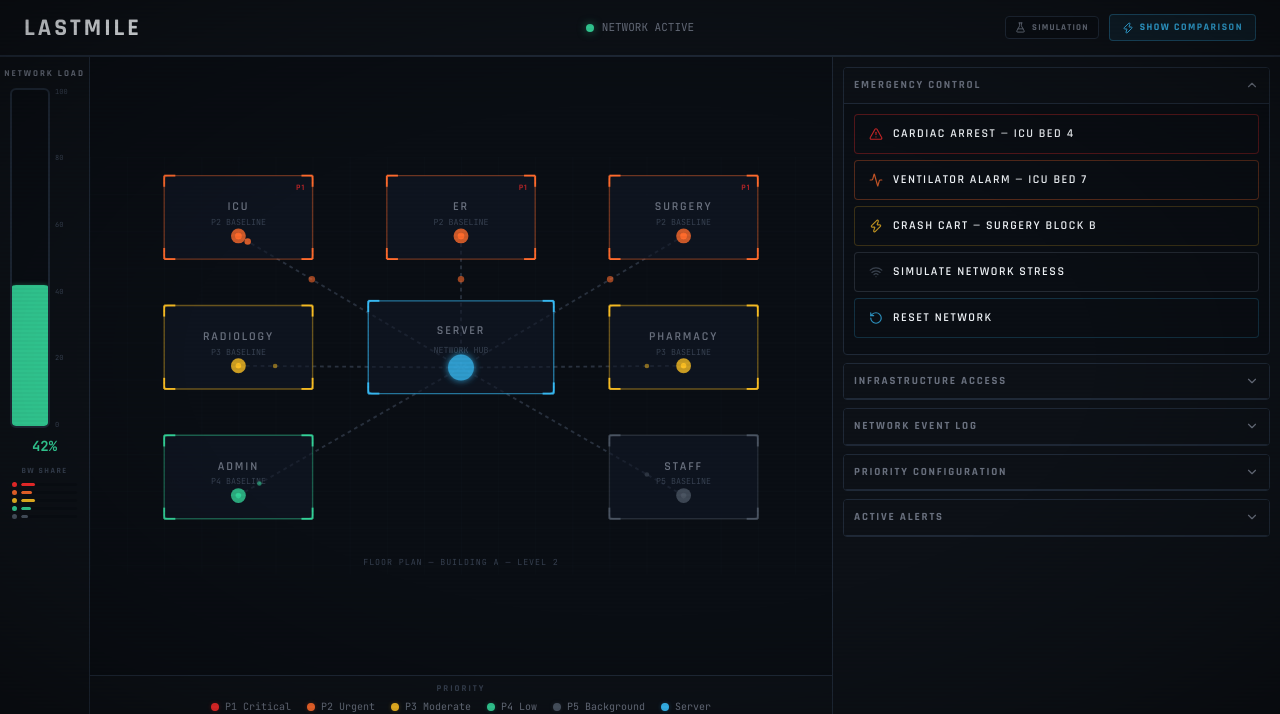
Test: App › warns when a P1-capable department goes dark
The width and height of the screenshot is (1280, 714).
Click the button "Infrastructure Access" at (930, 380), box [844,364,1269,399]
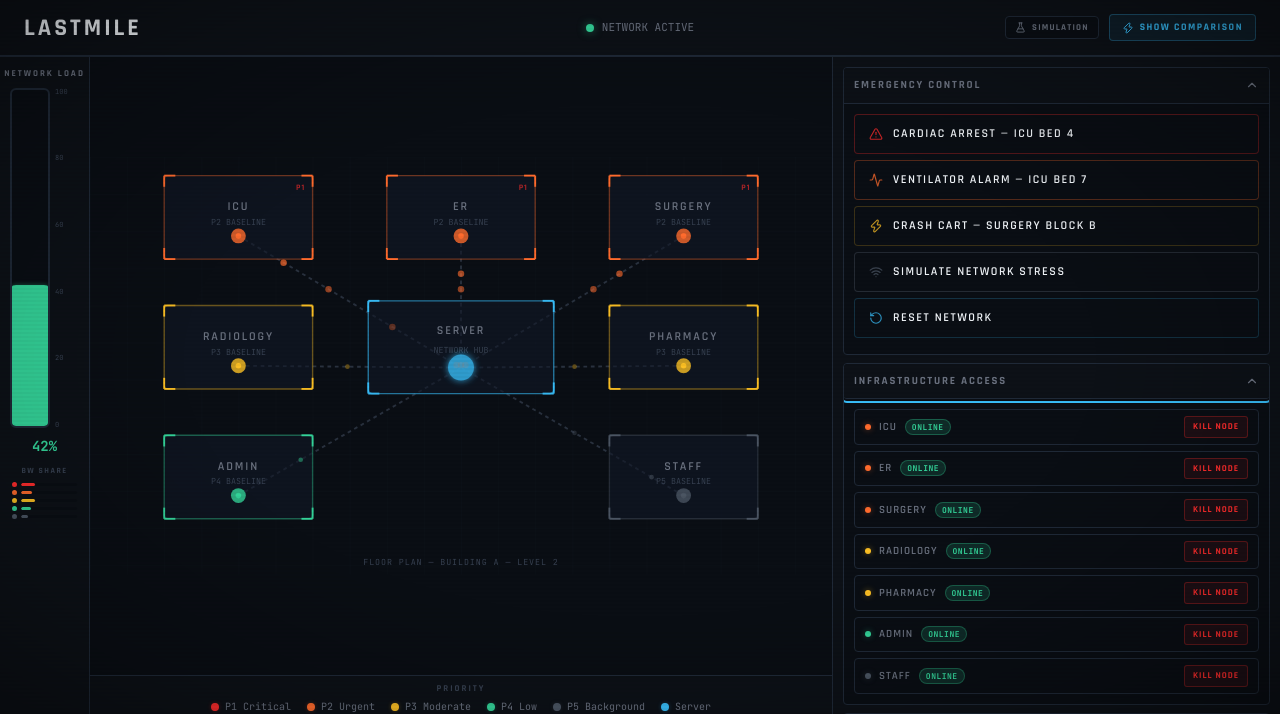
Click the button with aria-label "take offline ICU node" at (1216, 427), box [1184,416,1248,438]
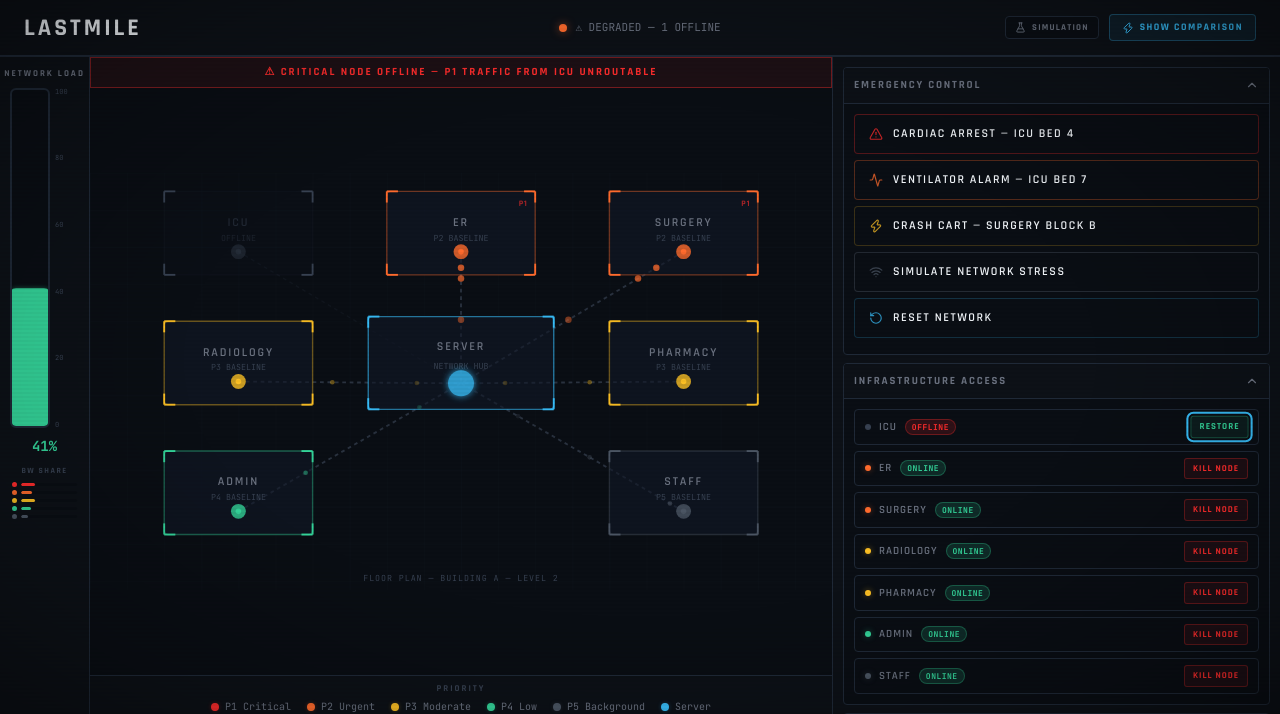
expect the text "⚠ CRITICAL NODE OFFLINE — P1 traffic from ICU unroutable" is shown: met, box [90,57,832,88]
